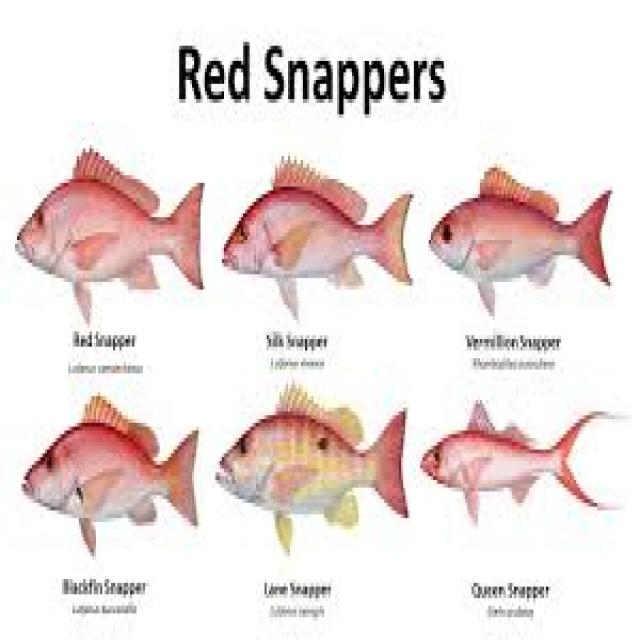northern-red-snapper: (426, 138, 620, 329), (10, 138, 210, 322), (224, 138, 417, 321), (13, 386, 210, 550), (418, 393, 626, 544), (220, 380, 414, 541)
